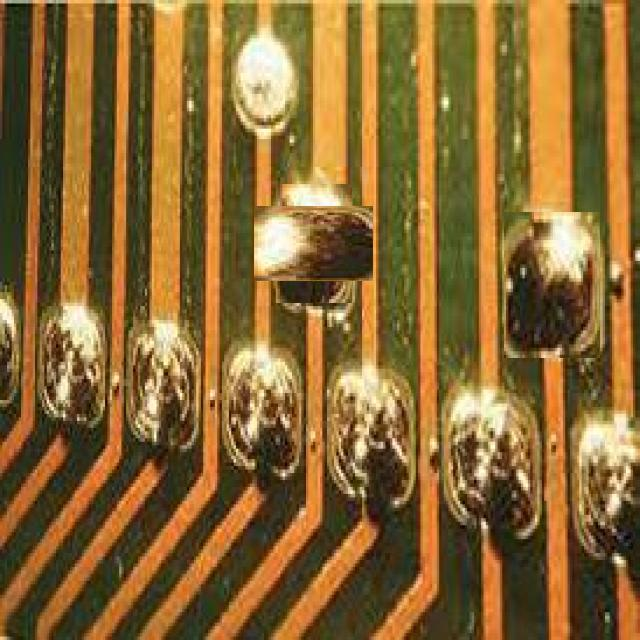slug: (504, 212, 600, 358), (265, 195, 363, 292)
